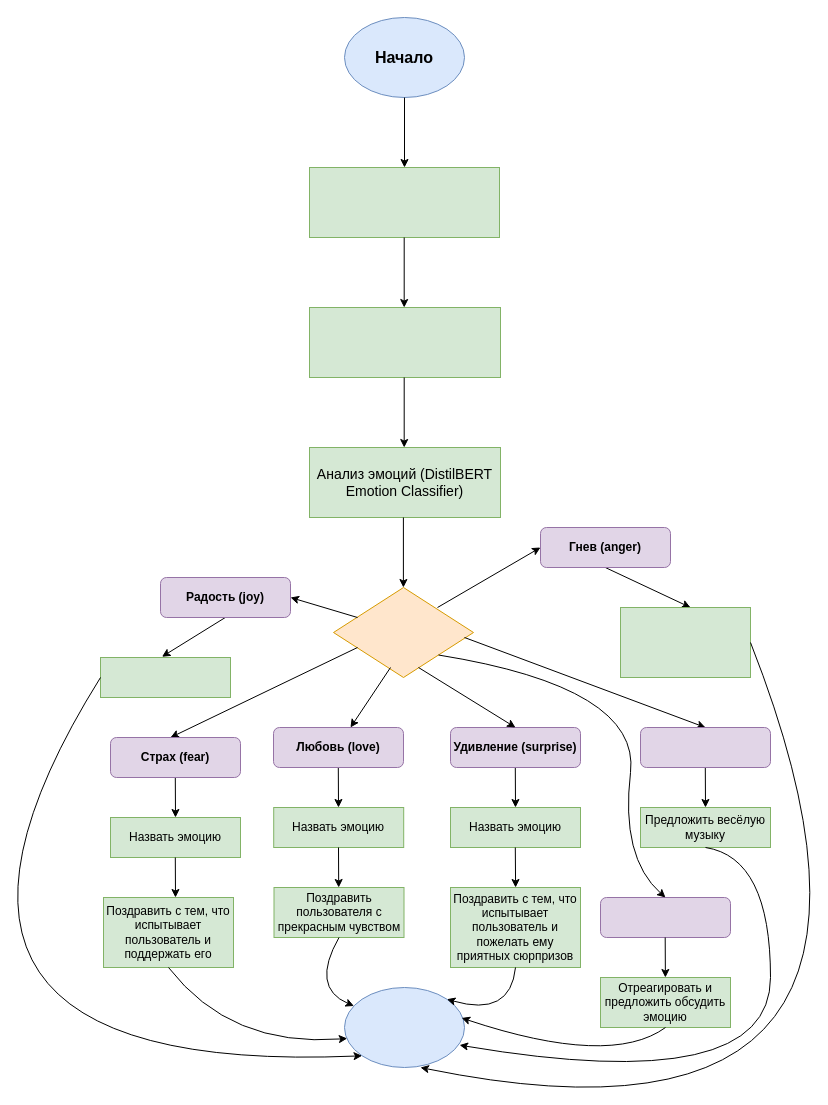
Some shapes in this 828 by 1105 pixel diagram are drawn without their labels. Each missing label, with the centre of its shape:
"Грусть (sadness)" goes at (x=705, y=747).
"Дать совет на основе сообщения пользователя" goes at (x=685, y=642).
"Другая эмоция" goes at (x=665, y=917).
"Какая эмоция?" goes at (x=403, y=632).
"Конец" goes at (x=404, y=1027).
"Перевод на английский (Google Translator)" goes at (x=404, y=342).
"Пользователь вводит текст" goes at (x=404, y=202).
"Порекомендовать активный отдых" goes at (x=165, y=677).
